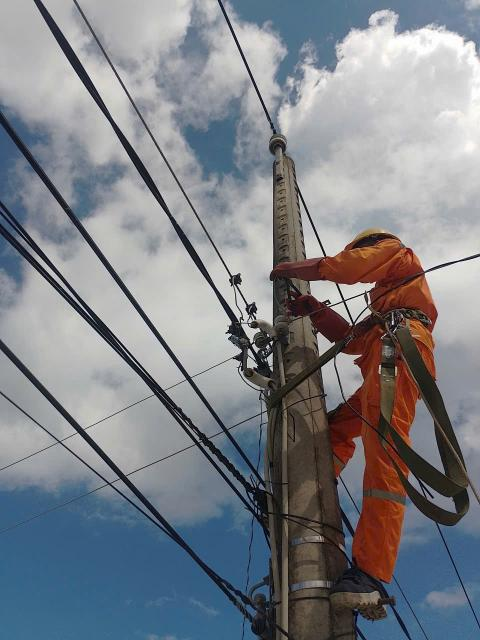gloves: (284, 279, 351, 347), (268, 250, 327, 283)
harness: (352, 301, 451, 349)
helmet: (334, 223, 407, 254)
shoes: (328, 552, 390, 622)
